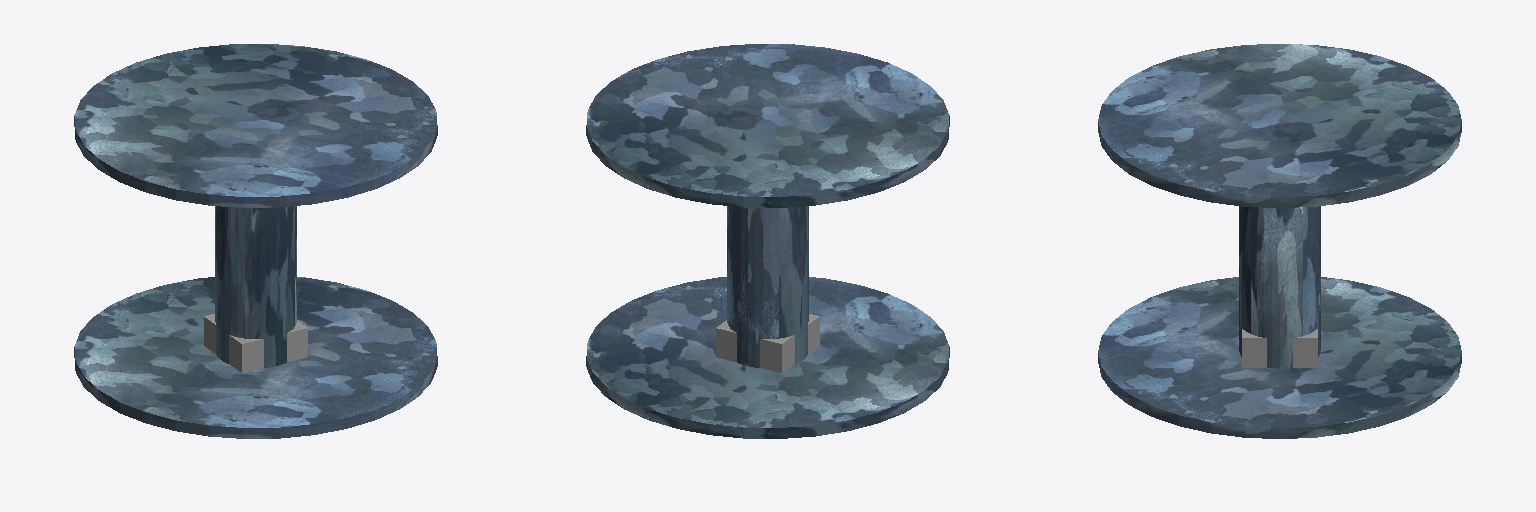
3 views of the same model, side by side, from view 1: azimuth 30°, elevation 25°; view 2: azimuth 150°, elevation 25°; view 3: azimuth 270°, elevation 25° (orthographic).
Parts seen in each view (by area): view 1: Cylinder, Cube; view 2: Cylinder, Cube; view 3: Cylinder, Cube.
Part boxes in pixels (x1,y1,x2,y2): Cylinder: (74, 44, 437, 438); Cube: (204, 314, 307, 372); Cylinder: (586, 44, 949, 438); Cube: (716, 314, 819, 372); Cylinder: (1098, 44, 1461, 438); Cube: (1242, 329, 1317, 367).
Size of the model in its own units: 9.5 by 7.81 by 9.5.
Materials: 2 (1 with a texture image).